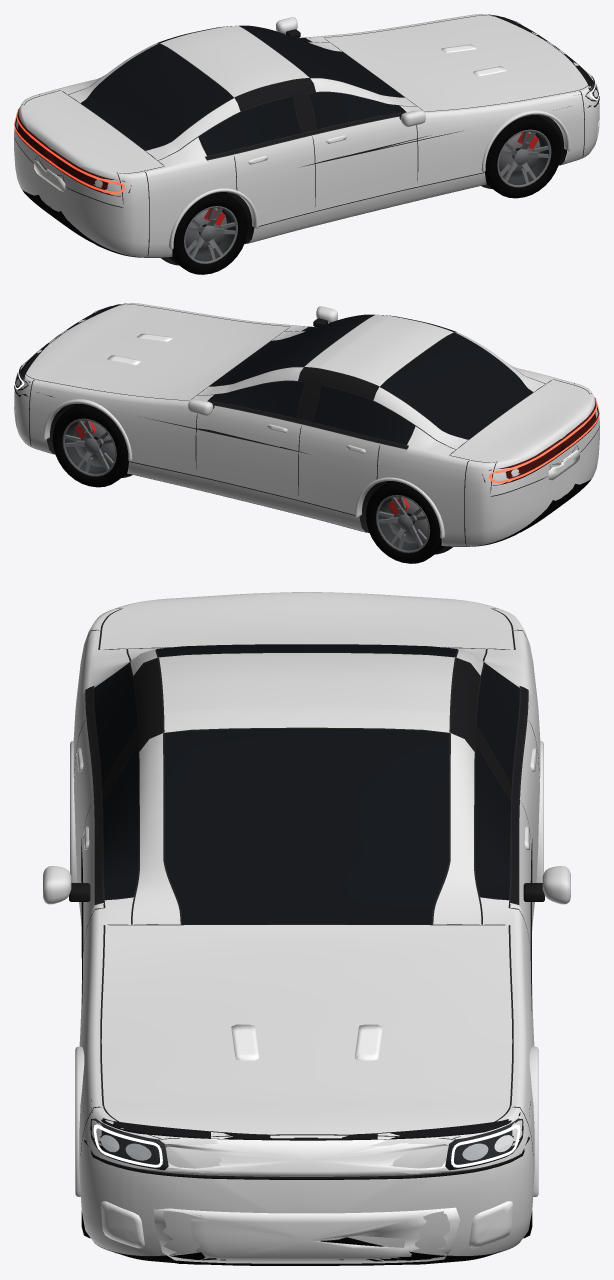
The model's file is dodgy_charjer.glb.
3 views of the same model, one above another, from view 1: azimuth 30°, elevation 25°; view 2: azimuth 150°, elevation 25°; view 3: azimuth 270°, elevation 25° (orthographic). The views are drawn at different scales.
Parts seen in each view (by area): view 1: part_glass, part_hood, part_roof, part_fender_fr, part_trunk, part_door_fr, part_rear_bumper, part_quarter_rr, part_door_rr, wheel_fr, wheel_rr, core (+11 smaller); view 2: part_glass, part_hood, part_roof, part_fender_fl, part_trunk, part_door_fl, part_rear_bumper, part_quarter_rl, part_door_rl, wheel_fl, wheel_rl, core (+11 smaller); view 3: part_hood, part_glass, part_roof, part_front_bumper, grille, part_trunk, core, part_underbody, part_fender_fr, part_fender_fl, part_pillars, part_beltline (+10 smaller).
Boxes of the visible parts, <box> form: part_glass: <box>81,25,406,156</box>; part_hood: <box>324,15,590,111</box>; part_roof: <box>68,25,416,160</box>; part_fender_fr: <box>400,90,584,186</box>; part_trunk: <box>14,90,164,207</box>; part_door_fr: <box>312,116,417,211</box>; part_rear_bumper: <box>14,94,148,257</box>; part_quarter_rr: <box>144,137,258,257</box>; part_door_rr: <box>234,135,314,225</box>; wheel_fr: <box>485,114,561,198</box>; wheel_rr: <box>170,192,247,274</box>; core: <box>14,15,591,256</box>; part_glass: <box>207,314,532,445</box>; part_hood: <box>23,304,289,400</box>; part_roof: <box>197,314,545,449</box>; part_fender_fl: <box>29,379,213,475</box>; part_trunk: <box>449,379,599,496</box>; part_door_fl: <box>196,405,301,500</box>; part_rear_bumper: <box>465,383,599,546</box>; part_quarter_rl: <box>355,426,469,546</box>; part_door_rl: <box>299,424,379,514</box>; wheel_fl: <box>52,403,128,487</box>; wheel_rl: <box>366,481,443,563</box>; core: <box>22,304,599,545</box>; part_hood: <box>101,925,512,1138</box>; part_glass: <box>94,644,519,924</box>; part_roof: <box>127,647,486,924</box>; part_front_bumper: <box>80,1107,533,1255</box>; grille: <box>81,838,532,1263</box>; part_trunk: <box>99,592,514,649</box>; core: <box>74,608,539,1256</box>; part_underbody: <box>94,1024,519,1265</box>; part_fender_fr: <box>75,897,133,1229</box>; part_fender_fl: <box>480,897,538,1229</box>; part_pillars: <box>102,658,511,801</box>; part_beltline: <box>86,686,527,904</box>.
Bounding box in the file's own units: 5.05 × 1.52 × 2.23.
